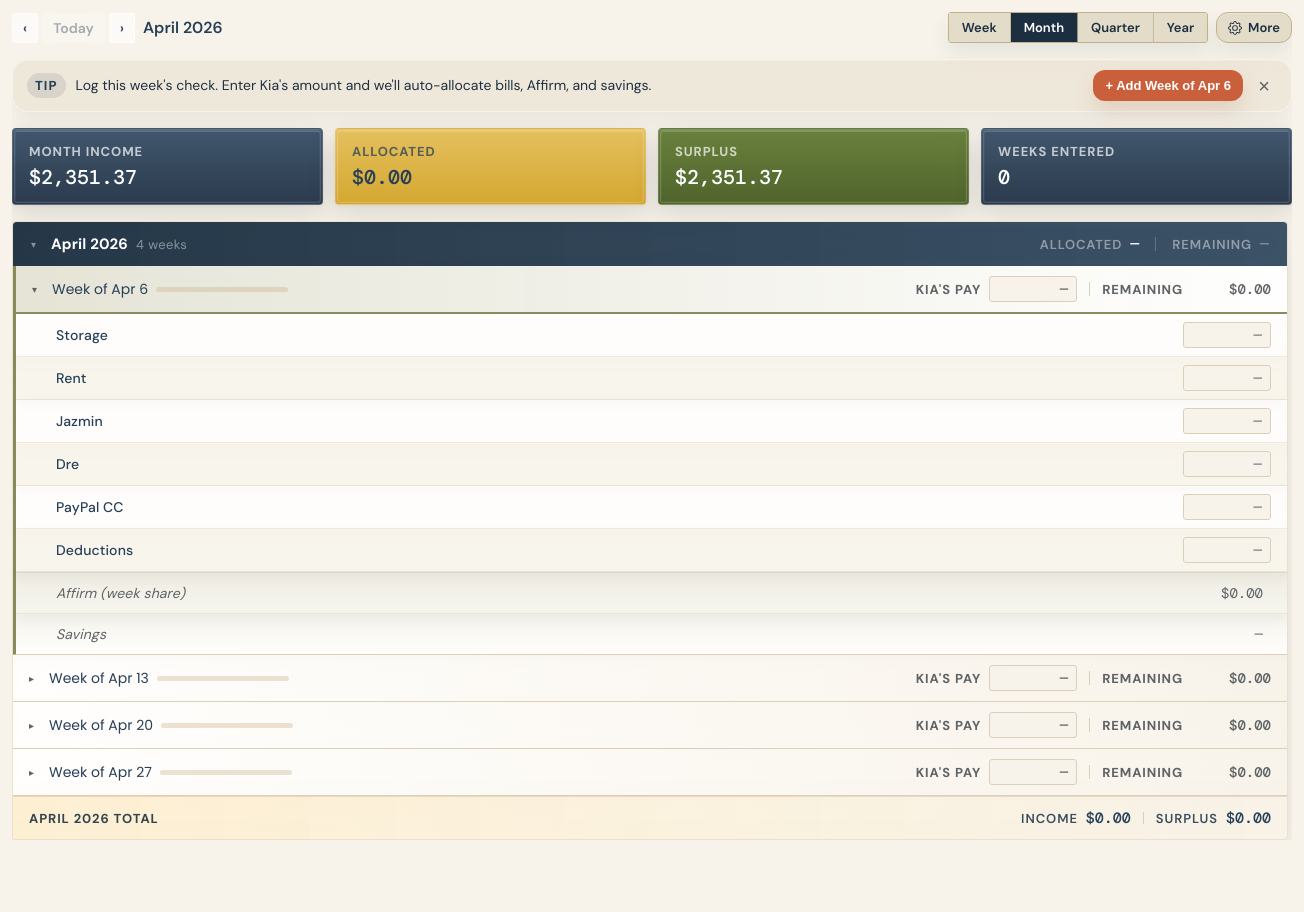
Test: PaycheckTab — navigation › navigates to next month (handleNavNext monthly)
What coordinates should you click on to do the following:
click the button named "Next month"
I would click on:
 (122, 28)
Its box is [109,12,135,42].
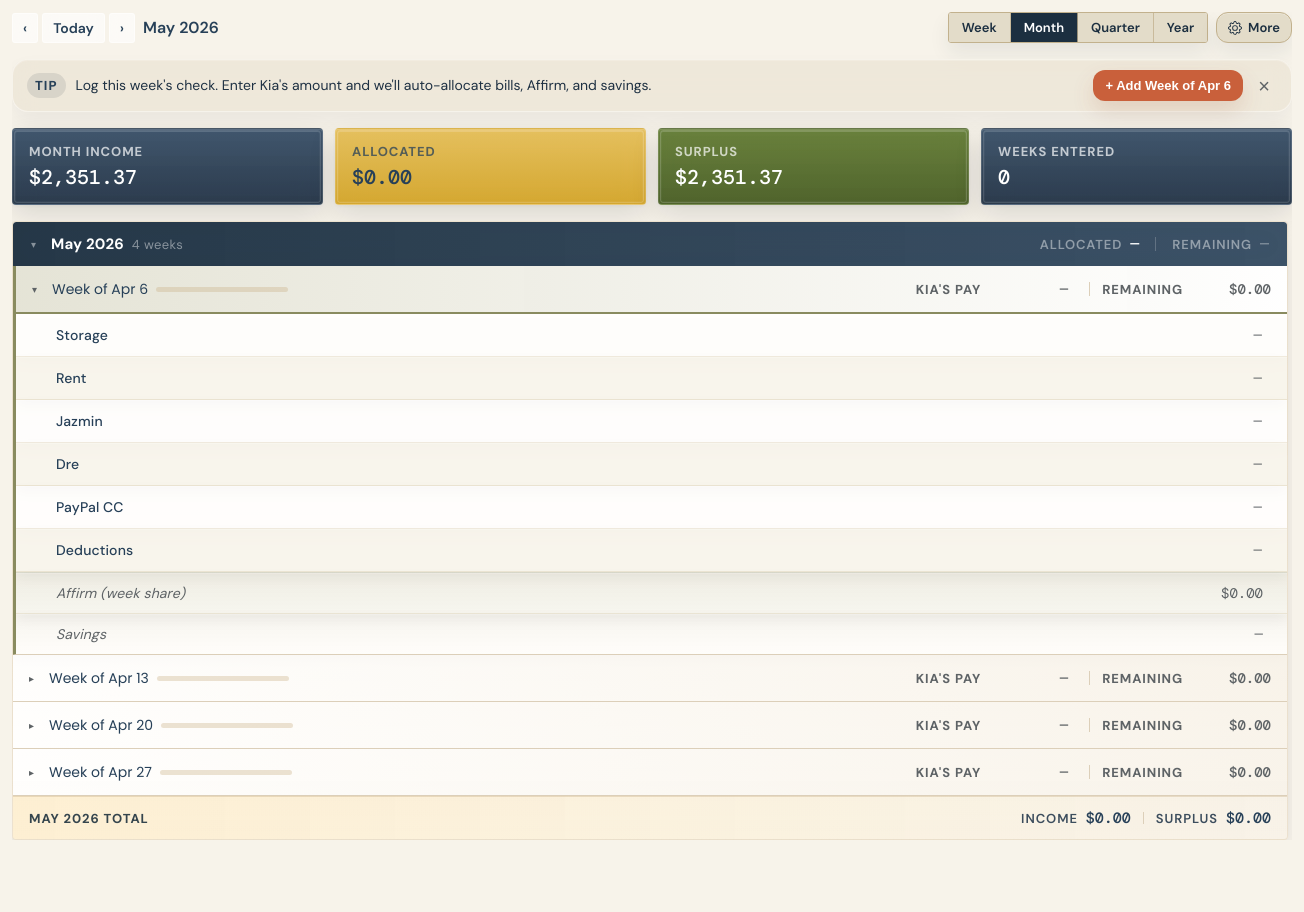
expect the heading "May 2026" is shown: met, box [143,17,219,38]
